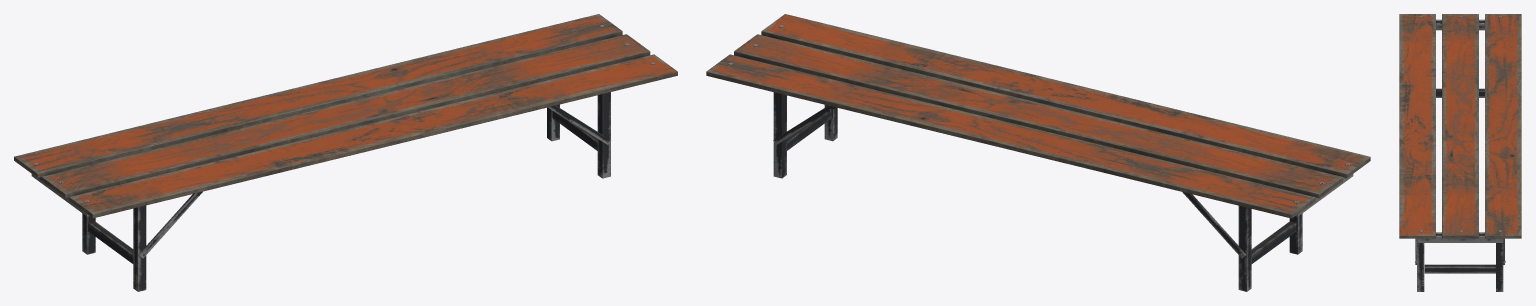
Rendered from old_outdoor_bench_optimised.glb.
3 views of the same model, side by side, from view 1: azimuth 30°, elevation 25°; view 2: azimuth 150°, elevation 25°; view 3: azimuth 270°, elevation 25° (orthographic). The views are drawn at different scales.
Parts seen in each view (by area): view 1: old_outdoor_bench; view 2: old_outdoor_bench; view 3: old_outdoor_bench.
Part boxes in pixels (x1,y1,x2,y2): old_outdoor_bench: (14, 14, 677, 291); old_outdoor_bench: (706, 14, 1370, 291); old_outdoor_bench: (1399, 14, 1521, 291).
Bounding box in the file's own units: 0.9799 × 0.1606 × 0.2288.
Materials: 1 (1 with a texture image).
